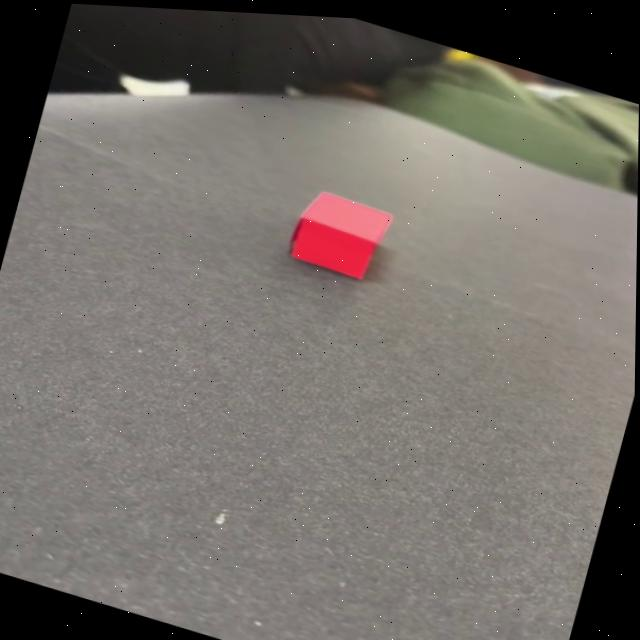red block: (283, 181, 394, 284)
